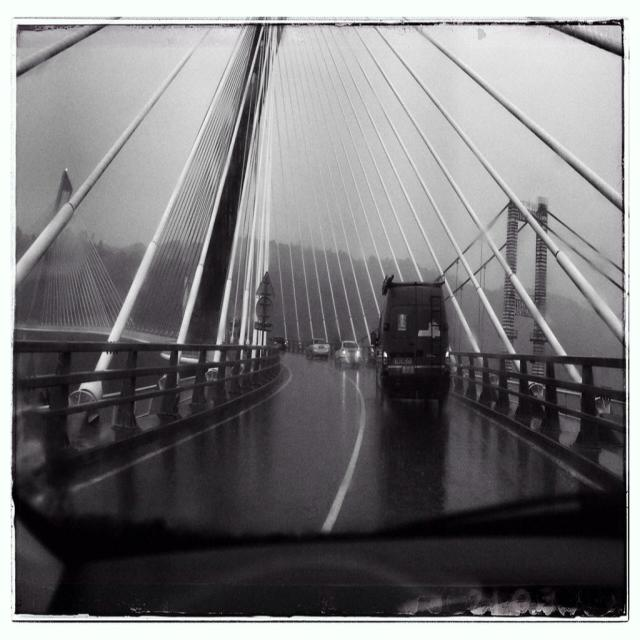car: (334, 338, 361, 369), (305, 336, 328, 361)
